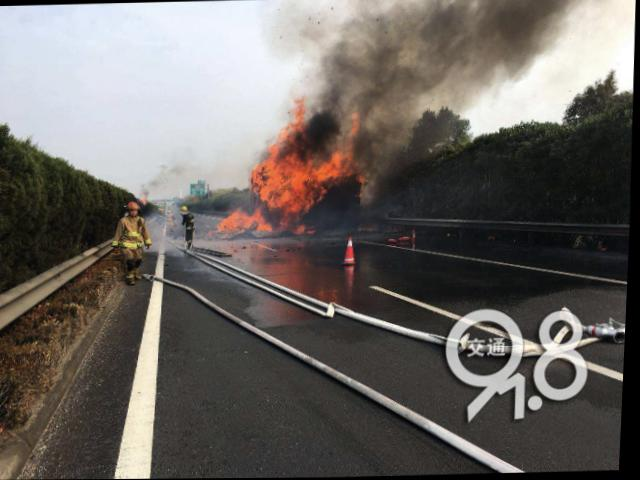fire: (214, 112, 374, 241)
